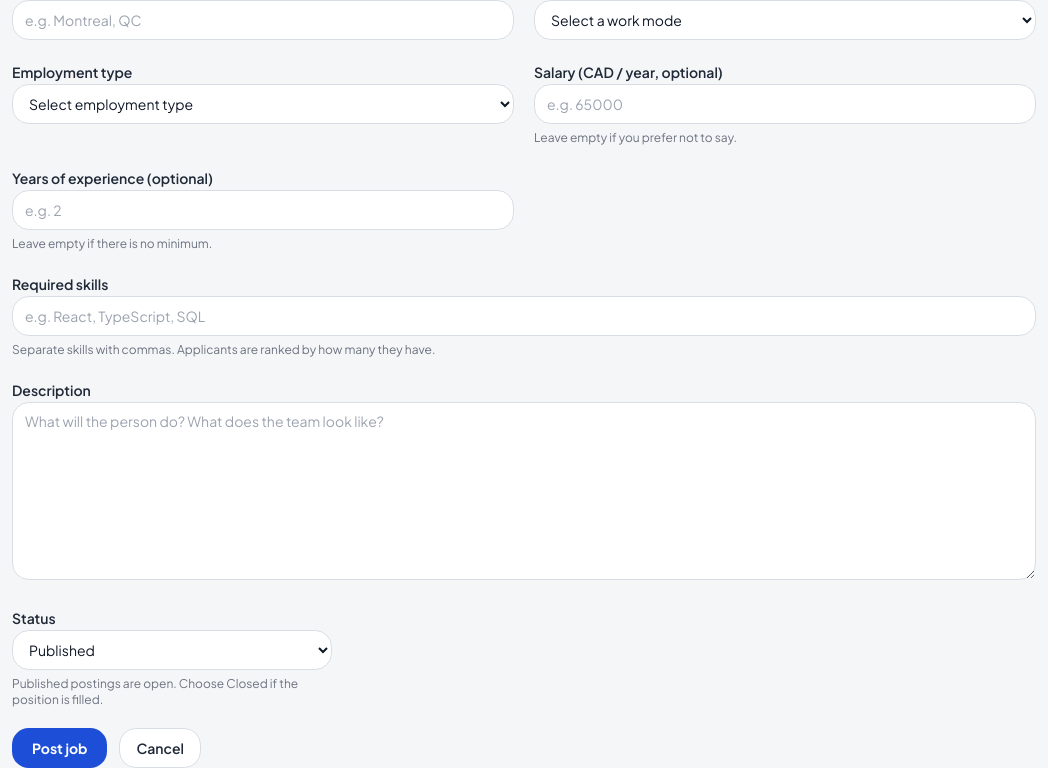
JobPostingForm › shows what is missing and does not post an empty form
The image size is (1048, 768).
(page scrolled)
Click the button "Post job". click: [60, 748]
box: left=12, top=728, right=108, bottom=767
(page scrolled)
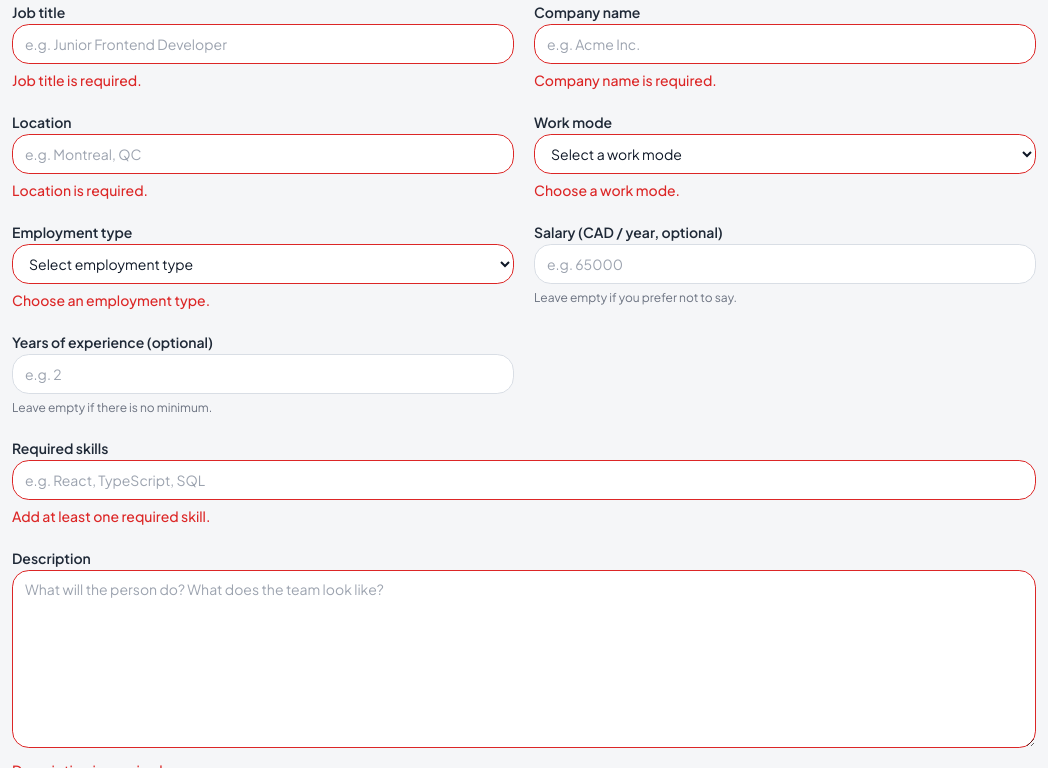
Expected: the text "Job title is required." is shown, left=12, top=71, right=142, bottom=89
Expected: the text "Company name is required." is shown, left=534, top=71, right=717, bottom=89
Expected: the text "Location is required." is shown, left=12, top=181, right=148, bottom=199
